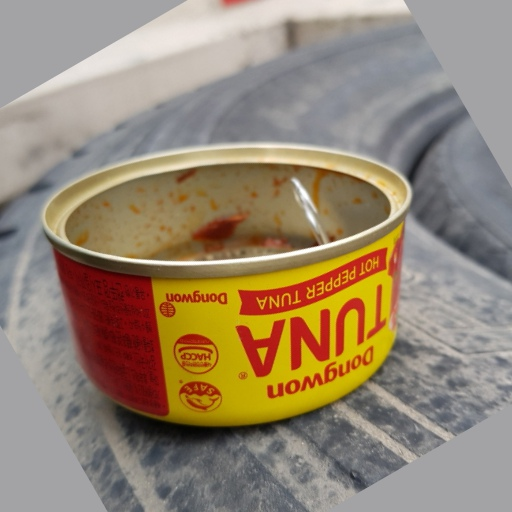Metal_1: (38, 141, 416, 429)
